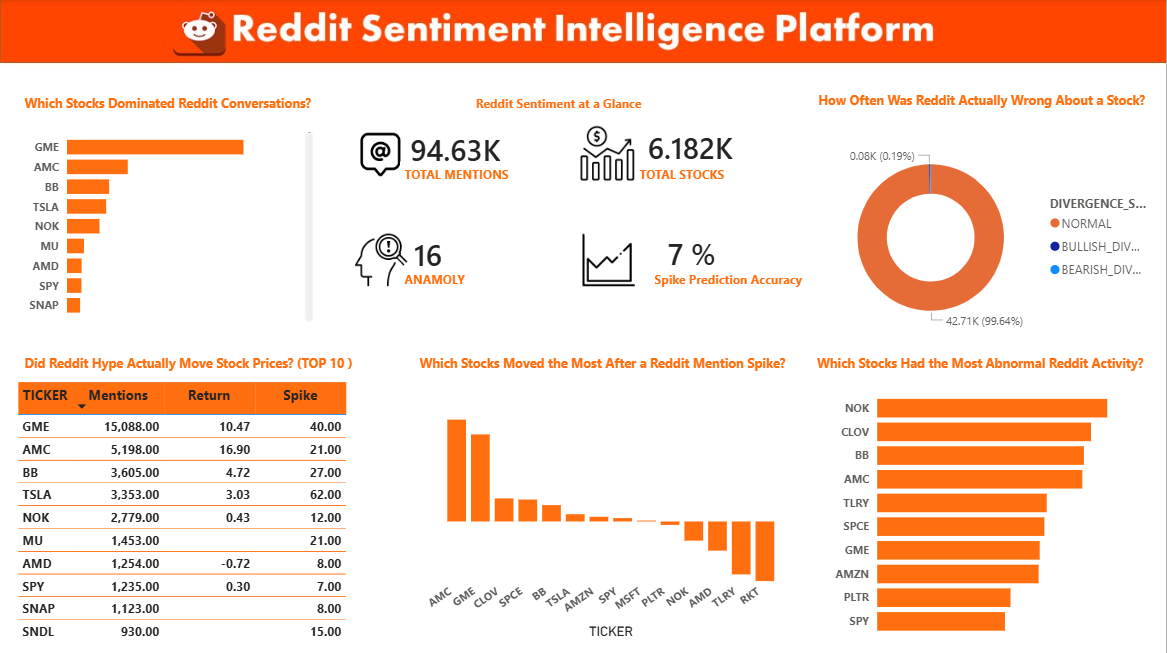

What the dashboard file says about the page in this screenshot:
{"tool":"powerbi","page":{"name":"Page 1","canvas":[1280,720],"ordinal":0},"visuals":[{"type":"barChart","fields":{"Category":["MART_LAG_ANALYSIS.TICKER"],"Y":["Sum(MART_LAG_ANALYSIS.MENTION_COUNT)"]},"box":[13.7,133.1,334.8,226.4],"z":0},{"type":"donutChart","fields":{"Category":["MART_LAG_ANALYSIS.DIVERGENCE_SIGNAL"],"Y":["CountNonNull(MART_LAG_ANALYSIS.MENTION_COUNT)"]},"box":[886.5,135.8,382.8,252.5],"z":1},{"type":"columnChart","fields":{"Category":["MART_LAG_ANALYSIS.TICKER"],"Y":["Avg(MART_LAG_ANALYSIS.RETURN_3D_PCT)"],"Series":["MART_LAG_ANALYSIS.IS_MENTION_SPIKE"]},"box":[463.8,426.8,402.1,281.3],"z":2},{"type":"tableEx","fields":{"Values":["MART_TICKER_SCORECARD.TICKER","Avg(MART_TICKER_SCORECARD.TOTAL_MENTIONS)","Avg(MART_TICKER_SCORECARD.AVG_RETURN_3D_AFTER_MENTION)","Avg(MART_TICKER_SCORECARD.TOTAL_SPIKES)"]},"box":[13.7,415.8,378.7,304.6],"z":3},{"type":"barChart","fields":{"Category":["MART_ANOMALY_DETECTION.TICKER"],"Y":["Avg(MART_ANOMALY_DETECTION.MENTION_ANOMALY_SCORE)"]},"box":[911.2,415.8,337.6,293.7],"z":4},{"type":"cardVisual","fields":{"Data":["Sum(MART_TICKER_SCORECARD.TOTAL_MENTIONS)"]},"box":[421.3,129,161.9,70],"z":5},{"type":"cardVisual","fields":{"Data":["Count(MART_TICKER_SCORECARD.TICKER)"]},"box":[682,129,156.4,65.9],"z":6},{"type":"cardVisual","fields":{"Data":["CountNonNull(MART_ANOMALY_DETECTION.ANOMALY_LEVEL)"]},"box":[425.4,247,105.7,63.1],"z":7},{"type":"cardVisual","fields":{"Data":["MART_TICKER_SCORECARD.Spike Accuracy %"]},"box":[703.9,245.6,112.5,64.5],"z":8},{"type":"textbox","box":[22,100.2,326.6,32.9],"z":9},{"type":"textbox","box":[893.3,96.1,376,32.9],"z":10},{"type":"textbox","box":[22,385.6,387,31.6],"z":11},{"type":"textbox","box":[455.6,385.6,419.9,32.9],"z":12},{"type":"textbox","box":[891.9,385.6,377.4,32.9],"z":13},{"type":"image","box":[392.5,133.1,50.8,75.5],"z":14},{"type":"image","box":[389.7,255.2,57.6,63.1],"z":15},{"type":"image","box":[639.5,230.5,57.6,112.5],"z":16},{"type":"image","box":[636.7,135.8,60.4,67.2],"z":17},{"type":"textbox","box":[439.1,178.4,124.9,32.9],"z":18},{"type":"textbox","box":[697.1,178.4,124.9,32.9],"z":19},{"type":"textbox","box":[439.1,293.7,124.9,32.9],"z":20},{"type":"textbox","box":[713.6,293.7,197.6,32.9],"z":21},{"type":"textbox","box":[517.3,100.2,205.8,28.8],"z":22}]}

Visuals, with their boxes in screenshot pixels (x1, y1, x2, y2), scaled from the page's 1280x720 canvas onto the 1167x653 screenshot:
barChart - MART_LAG_ANALYSIS.TICKER x Sum(MART_LAG_ANALYSIS.MENTION_COUNT): locate(12, 121, 318, 326)
donutChart - MART_LAG_ANALYSIS.DIVERGENCE_SIGNAL x CountNonNull(MART_LAG_ANALYSIS.MENTION_COUNT): locate(808, 123, 1157, 352)
columnChart - MART_LAG_ANALYSIS.TICKER x Avg(MART_LAG_ANALYSIS.RETURN_3D_PCT): locate(423, 387, 789, 642)
tableEx - MART_TICKER_SCORECARD.TICKER x Avg(MART_TICKER_SCORECARD.TOTAL_MENTIONS): locate(12, 377, 358, 652)
barChart - MART_ANOMALY_DETECTION.TICKER x Avg(MART_ANOMALY_DETECTION.MENTION_ANOMALY_SCORE): locate(831, 377, 1139, 643)
cardVisual - Sum(MART_TICKER_SCORECARD.TOTAL_MENTIONS): locate(384, 117, 532, 180)
cardVisual - Count(MART_TICKER_SCORECARD.TICKER): locate(622, 117, 764, 177)
cardVisual - CountNonNull(MART_ANOMALY_DETECTION.ANOMALY_LEVEL): locate(388, 224, 484, 281)
cardVisual - MART_TICKER_SCORECARD.Spike Accuracy %: locate(642, 223, 744, 281)
textbox: locate(20, 91, 318, 121)
textbox: locate(814, 87, 1157, 117)
textbox: locate(20, 350, 373, 378)
textbox: locate(415, 350, 798, 380)
textbox: locate(813, 350, 1157, 380)
image: locate(358, 121, 404, 189)
image: locate(355, 231, 408, 289)
image: locate(583, 209, 636, 311)
image: locate(580, 123, 636, 184)
textbox: locate(400, 162, 514, 192)
textbox: locate(636, 162, 749, 192)
textbox: locate(400, 266, 514, 296)
textbox: locate(651, 266, 831, 296)
textbox: locate(472, 91, 659, 117)
